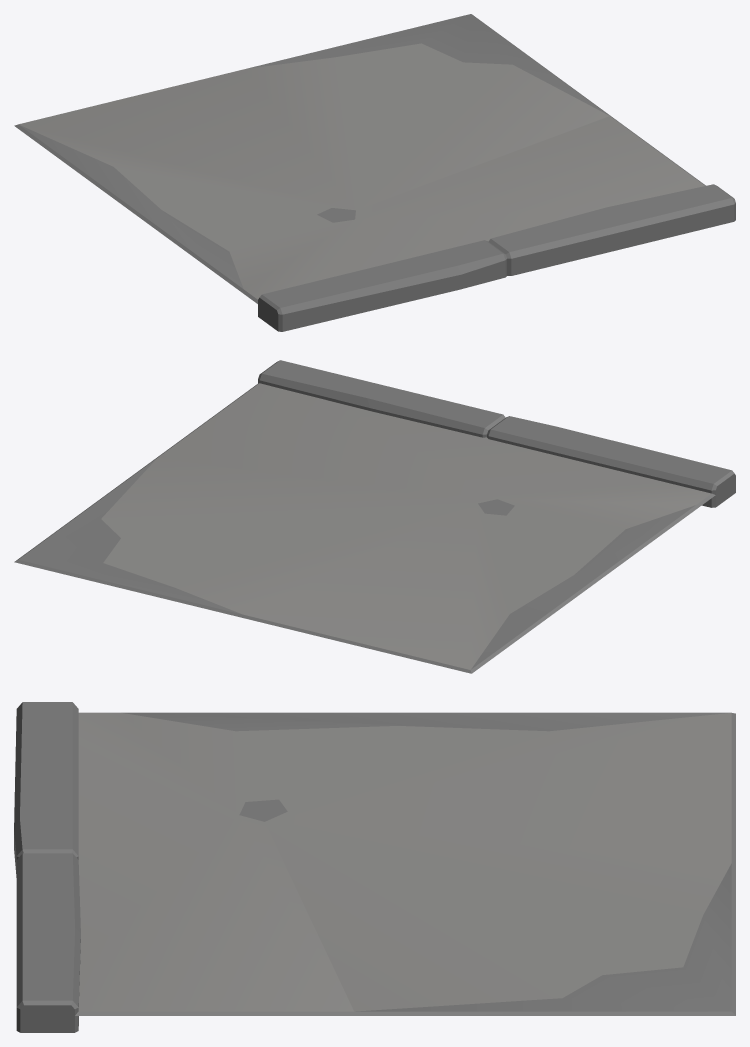
The model's file is SM_Envr_Road_Sidewalk_04.fbx.
The picture shows the model from 3 angles, top to bottom: view 1: azimuth 30°, elevation 25°; view 2: azimuth 150°, elevation 25°; view 3: azimuth 270°, elevation 25°; orthographic projection. The views are drawn at different scales.
Parts seen in each view (by area): view 1: SM_Envr_Road_Sidewalk_04; view 2: SM_Envr_Road_Sidewalk_04; view 3: SM_Envr_Road_Sidewalk_04.
Boxes of the visible parts, x1=… form: SM_Envr_Road_Sidewalk_04: x1=14, y1=14, x2=735, y2=331; SM_Envr_Road_Sidewalk_04: x1=14, y1=360, x2=735, y2=673; SM_Envr_Road_Sidewalk_04: x1=14, y1=702, x2=735, y2=1032.
Size of the model in its own units: 500 by 25.53 by 505.
